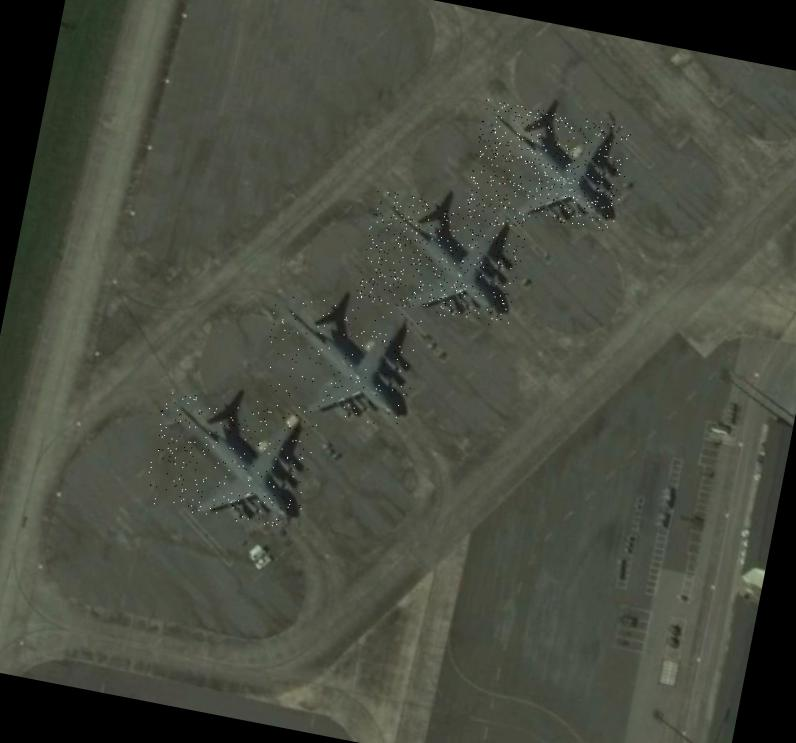A3: (142, 389, 318, 532), (355, 188, 529, 328), (255, 290, 424, 430), (465, 98, 634, 232)
